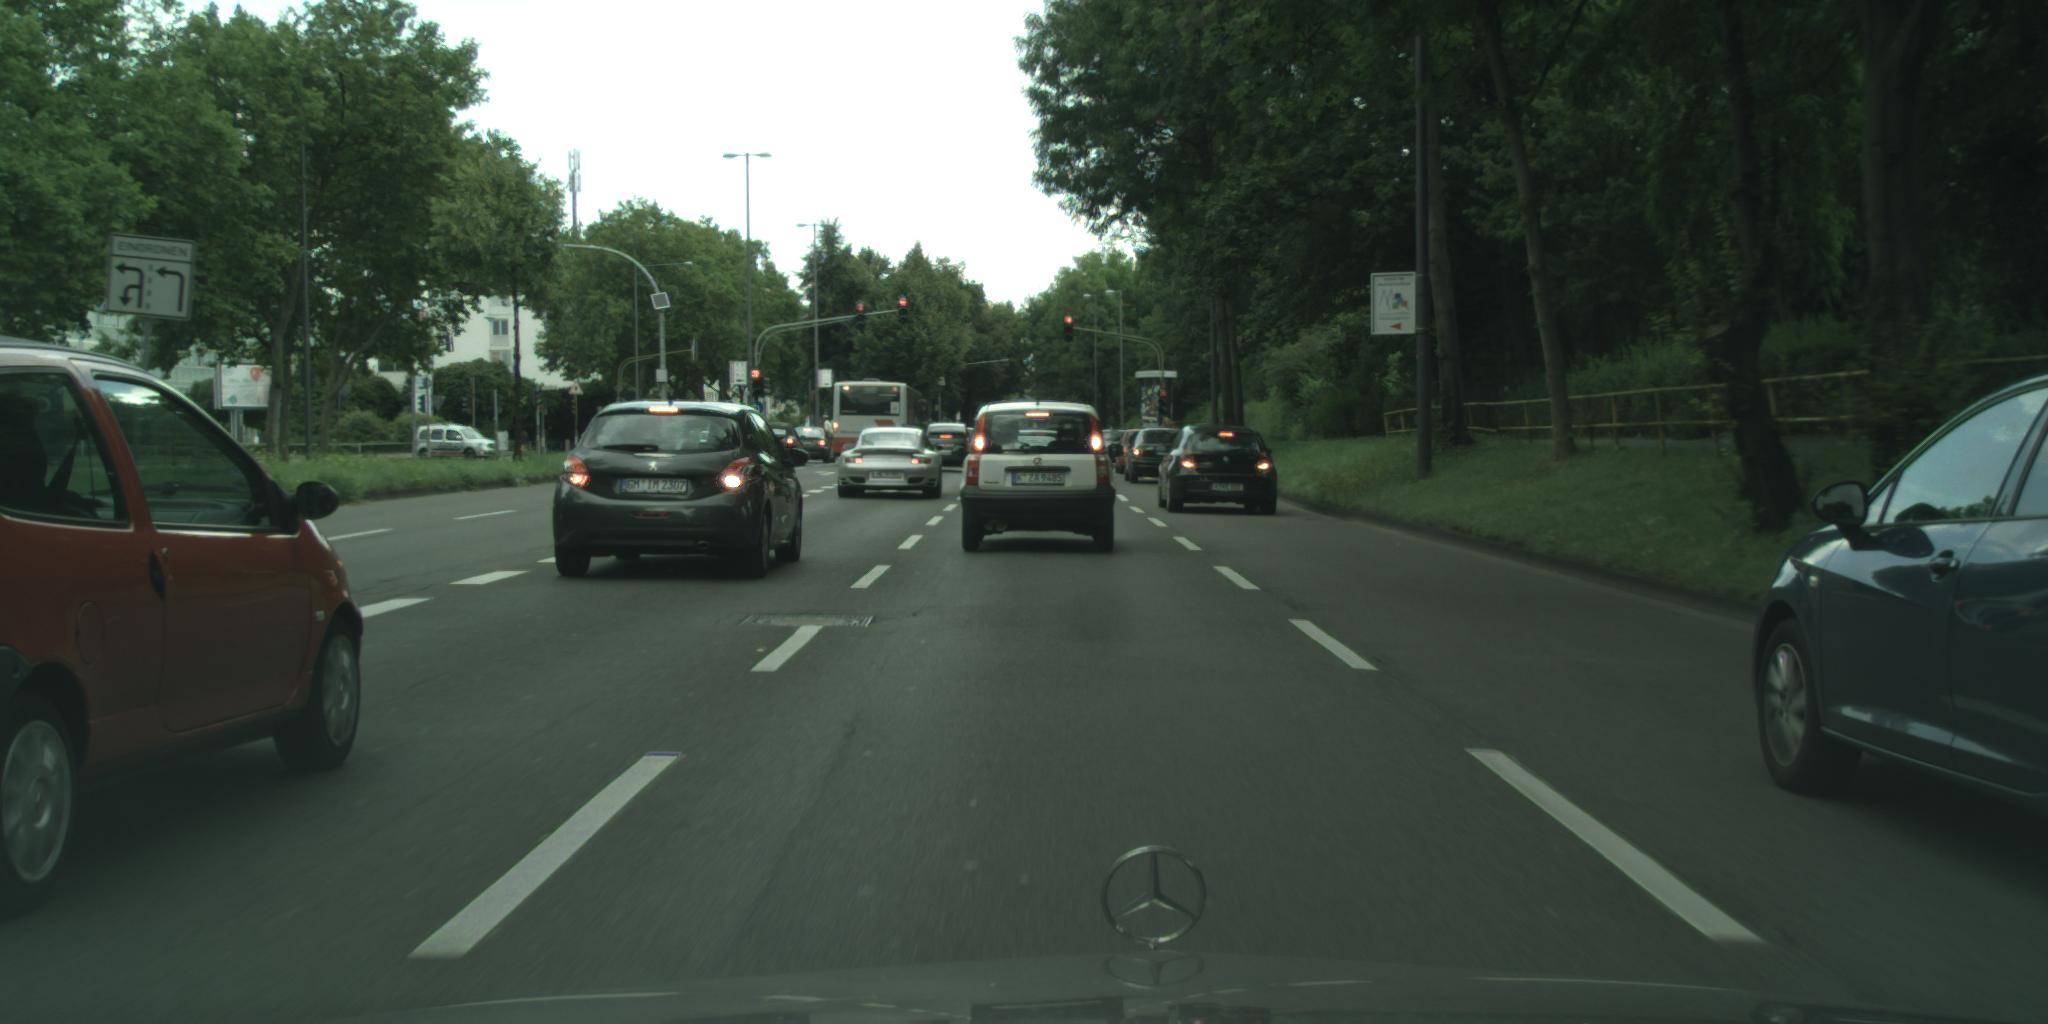bus: (832, 377, 931, 458)
car: (1, 336, 366, 918), (1753, 375, 2044, 811), (552, 401, 807, 583), (951, 401, 1125, 554), (1155, 424, 1279, 516), (839, 428, 946, 500), (413, 424, 498, 462), (1125, 430, 1179, 485), (1085, 430, 1138, 478), (754, 426, 808, 470), (921, 424, 976, 469), (789, 428, 837, 468), (801, 417, 850, 443)
